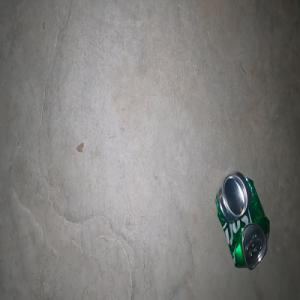SodaCan: (215, 172, 269, 270)
